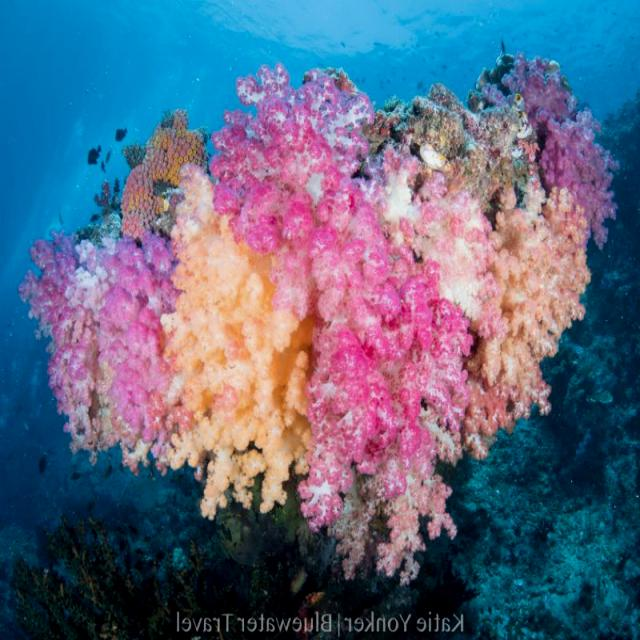Coral: (16, 50, 640, 587), (120, 109, 208, 243)
